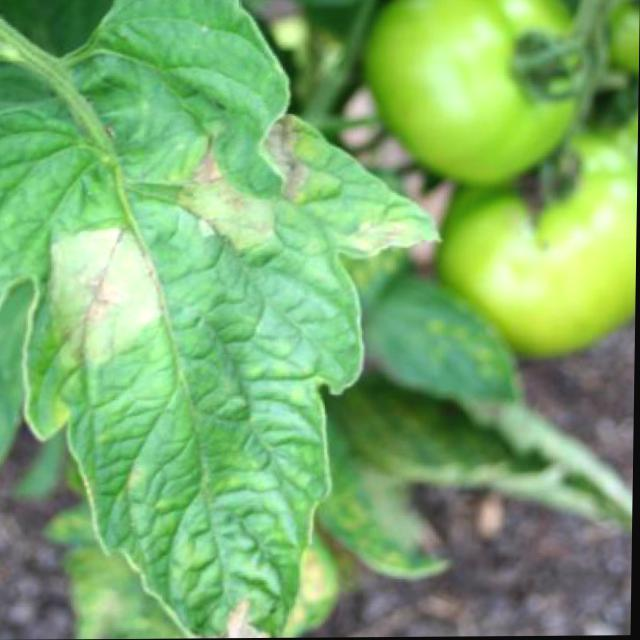Tomato mosaic virus leaf: (0, 0, 434, 623)
